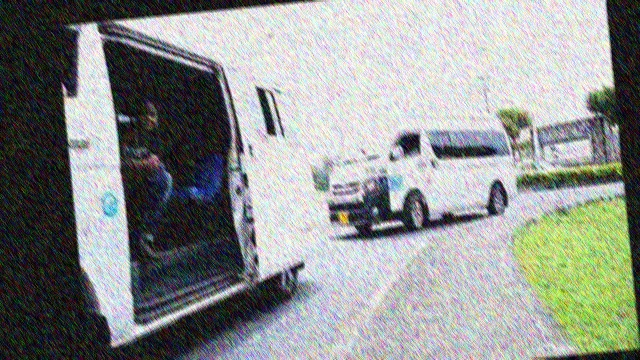van: (320, 109, 526, 241)
